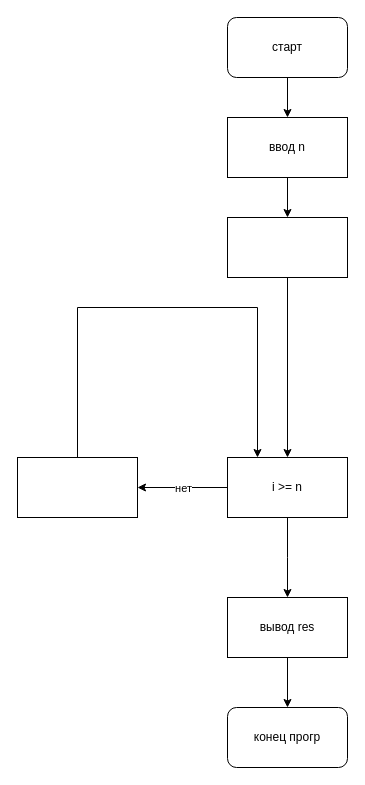
The diagram is 365 pixels wide and 785 high, and some of its shapes have lost their labels. Here are the shapes that lost their labels. From the top down, the centre of each, then its label:
At [287,247]: "i = 1 res = 1".
At [77,487]: "i = i + 1 res = res * i".
